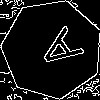A: (27, 24, 85, 79)
